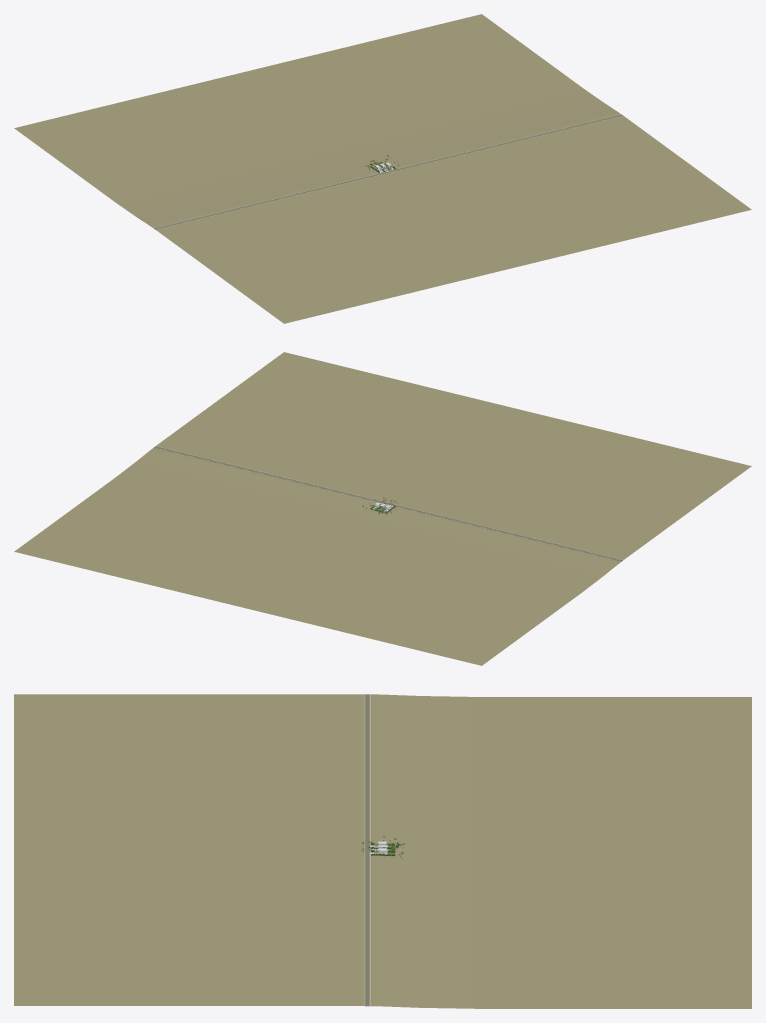
File: villa-eivissa.glb
3 renders of one model, top to bottom at view 1: azimuth 30°, elevation 25°; view 2: azimuth 150°, elevation 25°; view 3: azimuth 270°, elevation 25°, orthographic. The views are drawn at different scales.
Visible parts, largest first — view 1: contexto__terreno_contexto, contexto__calzada_adoquin, contexto__andén; view 2: contexto__terreno_contexto, contexto__calzada_adoquin, contexto__andén; view 3: contexto__terreno_contexto, contexto__calzada_adoquin, contexto__andén, contexto__pasto.
Part boxes in pixels (x1,y1,x2,y2): contexto__terreno_contexto: (14, 14, 751, 323); contexto__calzada_adoquin: (154, 114, 622, 229); contexto__andén: (154, 114, 621, 229); contexto__terreno_contexto: (14, 352, 751, 665); contexto__calzada_adoquin: (154, 446, 622, 561); contexto__andén: (154, 446, 621, 561); contexto__terreno_contexto: (14, 694, 751, 1008); contexto__calzada_adoquin: (366, 694, 369, 1006); contexto__andén: (364, 694, 370, 1006); contexto__pasto: (365, 694, 369, 1006).
Bounding box in the file's own units: 1200 × 16.25 × 1200.
